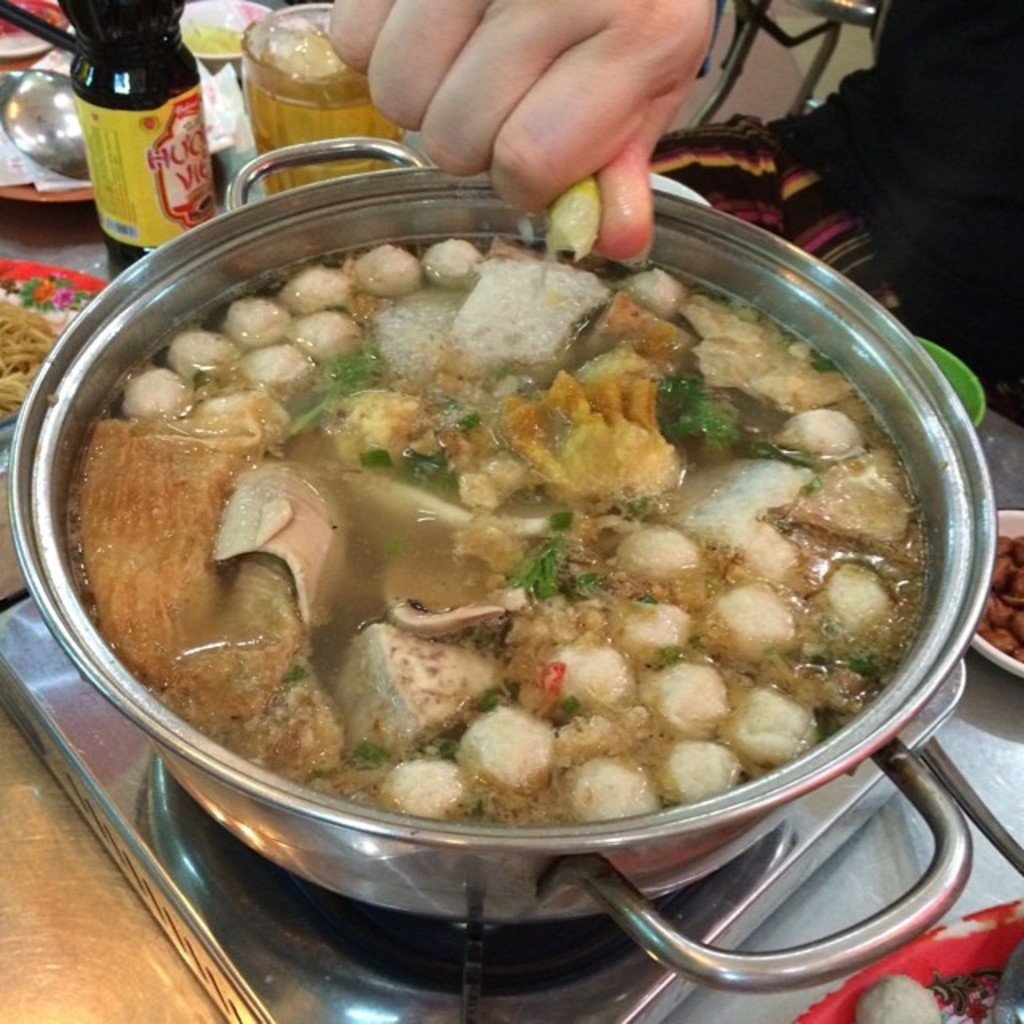Human_hand: (329, 0, 716, 259)
